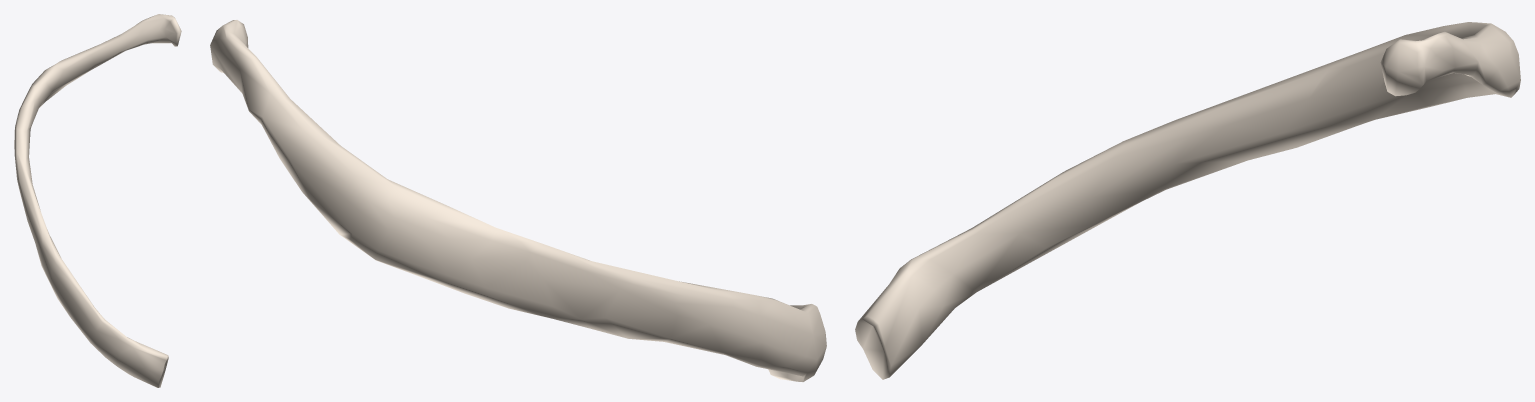
Rendered from right_rib_7.glb.
The picture shows the model from 3 angles, left to right: view 1: azimuth 30°, elevation 25°; view 2: azimuth 150°, elevation 25°; view 3: azimuth 270°, elevation 25°; orthographic projection. The views are drawn at different scales.
Visible parts, largest first — view 1: Rib (7th).r; view 2: Rib (7th).r; view 3: Rib (7th).r.
Part boxes in pixels (box(x1,y1,x2,y2)): Rib (7th).r: box(14, 14, 181, 387); Rib (7th).r: box(210, 20, 826, 381); Rib (7th).r: box(855, 22, 1520, 379).
Bounding box in the file's own units: 0.1262 × 0.1438 × 0.181.
